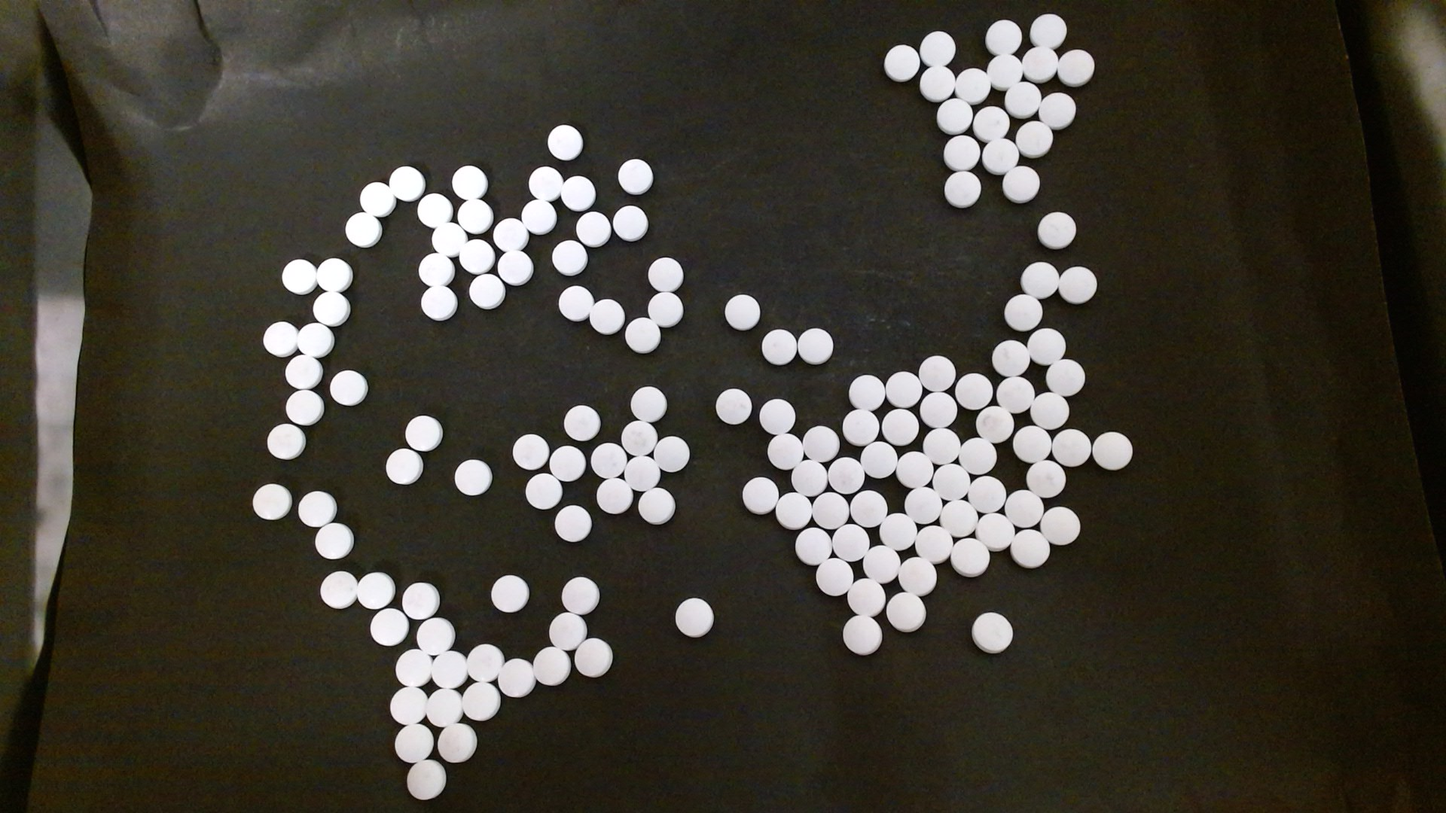Circle: (970, 611, 1014, 654), (842, 614, 883, 656), (814, 556, 855, 597), (406, 758, 447, 799), (1039, 505, 1081, 545), (1091, 431, 1133, 471), (886, 591, 926, 632), (1009, 528, 1050, 568), (437, 723, 477, 764), (674, 597, 714, 638), (573, 638, 613, 678), (1029, 390, 1069, 430), (898, 556, 938, 596), (950, 537, 990, 577), (393, 723, 433, 763), (1051, 428, 1092, 467), (297, 489, 337, 528), (355, 571, 395, 610), (319, 570, 359, 609), (490, 574, 529, 614), (429, 650, 468, 690), (995, 375, 1035, 414), (975, 511, 1014, 551), (315, 522, 354, 561), (416, 617, 455, 656), (1013, 424, 1052, 463), (991, 338, 1030, 377), (774, 492, 813, 531), (1025, 459, 1064, 498), (932, 462, 971, 501), (862, 544, 901, 583), (975, 404, 1014, 443), (1057, 266, 1097, 304), (1057, 47, 1095, 87), (370, 607, 408, 646), (560, 576, 599, 614), (266, 423, 305, 461), (465, 644, 504, 682), (1020, 260, 1059, 298), (394, 648, 432, 687), (846, 577, 884, 616), (532, 647, 570, 686), (811, 491, 850, 529), (879, 511, 917, 550), (958, 436, 996, 475), (794, 526, 832, 565), (939, 498, 977, 537), (390, 686, 428, 725), (850, 489, 888, 528), (972, 102, 1010, 141), (1037, 211, 1076, 249), (549, 612, 587, 650), (453, 458, 491, 496), (1015, 119, 1053, 157), (936, 96, 974, 134), (741, 477, 779, 515), (1002, 165, 1040, 203), (955, 372, 993, 410), (915, 524, 953, 562), (329, 369, 368, 406), (1039, 90, 1076, 129), (758, 397, 795, 436), (1045, 358, 1084, 395), (497, 658, 534, 697), (895, 450, 932, 489), (252, 483, 291, 520), (462, 681, 499, 720), (831, 522, 868, 561), (1005, 489, 1042, 528), (969, 474, 1006, 513), (426, 687, 463, 726), (401, 581, 438, 619), (525, 473, 563, 510), (385, 448, 423, 485), (652, 435, 690, 472), (1004, 294, 1042, 331), (638, 488, 676, 525), (629, 385, 667, 422), (554, 504, 591, 542), (981, 137, 1018, 175), (881, 408, 918, 446), (953, 66, 990, 104), (511, 433, 549, 470), (842, 408, 879, 446), (860, 440, 897, 478), (791, 459, 828, 497), (919, 30, 956, 68), (944, 170, 981, 208), (285, 388, 322, 425), (596, 477, 633, 514), (943, 134, 980, 171), (620, 419, 657, 456), (1029, 327, 1066, 364), (922, 427, 959, 464), (883, 44, 920, 81), (919, 355, 956, 392), (715, 388, 752, 425), (404, 414, 442, 450), (420, 285, 458, 321), (920, 391, 956, 429), (904, 486, 940, 524), (313, 290, 350, 326), (285, 353, 322, 389), (468, 273, 505, 309), (262, 321, 299, 357), (315, 257, 352, 293), (590, 441, 627, 477), (1022, 46, 1059, 82), (920, 65, 956, 102), (618, 158, 654, 195), (798, 327, 834, 364), (767, 433, 804, 469), (828, 457, 864, 494), (848, 373, 884, 410), (761, 329, 797, 366), (612, 204, 648, 240), (296, 321, 332, 357), (575, 211, 611, 247), (563, 404, 599, 440), (281, 258, 317, 294), (550, 444, 586, 480), (1004, 81, 1040, 117), (802, 425, 838, 461), (1030, 13, 1066, 49), (552, 239, 587, 276), (497, 248, 532, 285), (416, 192, 453, 227), (987, 53, 1022, 90), (885, 370, 920, 407), (985, 19, 1020, 56), (547, 123, 582, 160), (431, 221, 466, 257), (457, 198, 493, 233), (589, 298, 624, 334), (557, 285, 593, 320), (418, 252, 454, 287), (624, 455, 659, 491), (389, 164, 425, 199), (624, 318, 659, 353), (345, 212, 380, 247), (560, 175, 595, 210), (493, 218, 528, 253), (648, 256, 683, 291), (452, 164, 487, 199), (521, 199, 556, 234), (648, 291, 682, 327), (458, 239, 494, 273), (725, 294, 759, 330), (360, 181, 395, 215), (529, 166, 563, 200)
